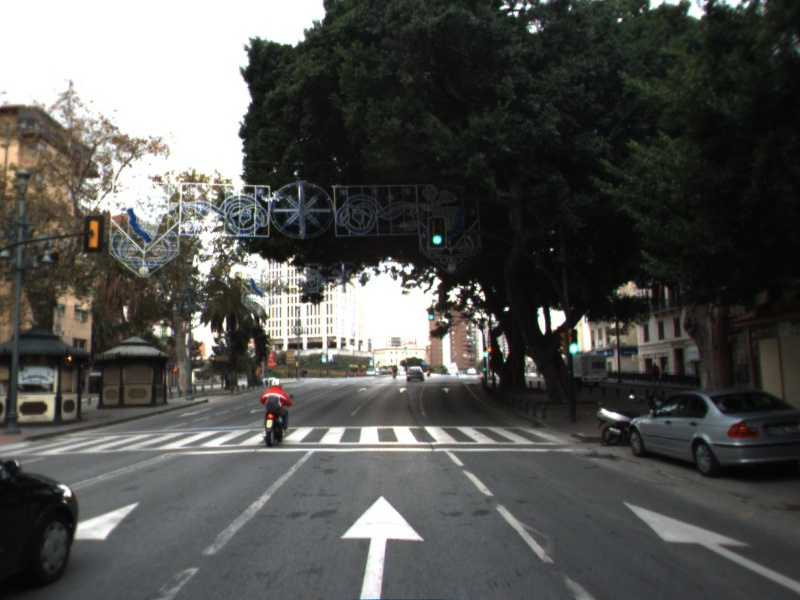STRAIGHT: (618, 496, 800, 593), (335, 492, 429, 600)
